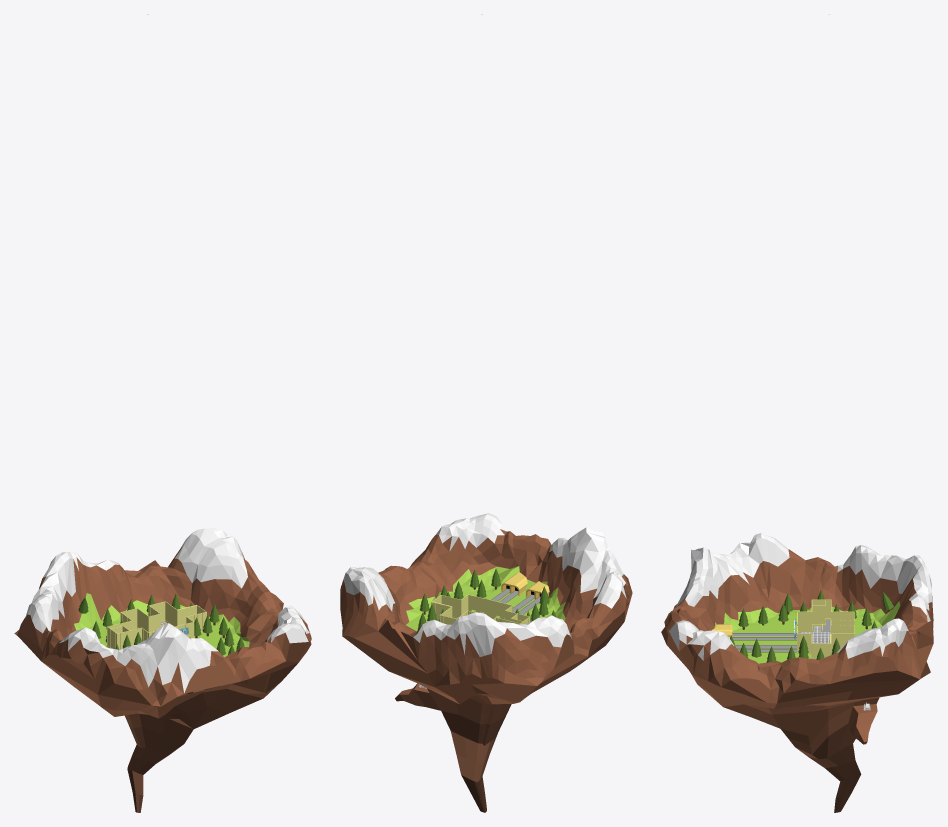
The model's file is terrain.glb.
3 views of the same model, side by side, from view 1: azimuth 30°, elevation 25°; view 2: azimuth 150°, elevation 25°; view 3: azimuth 270°, elevation 25° (orthographic).
Visible parts, largest first — view 1: Terrain; view 2: Terrain; view 3: Terrain.
Part boxes in pixels (x1,y1,x2,y2): Terrain: (14,14,311,812); Terrain: (340,14,632,812); Terrain: (661,14,933,812).
Bounding box in the file's own units: 35.52 × 116 × 35.66.
1 material, 1 textured.
